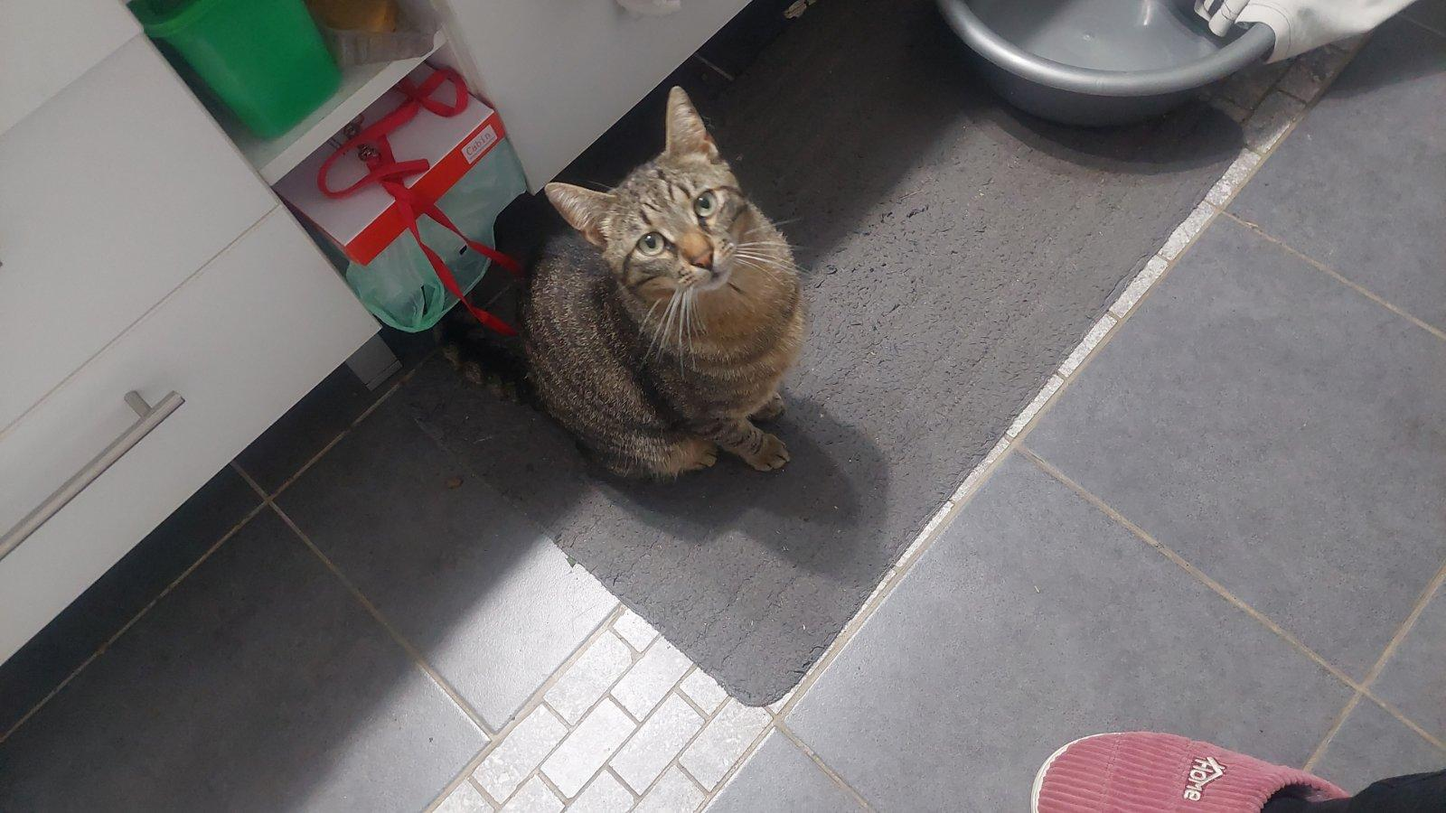macka: (416, 80, 800, 484)
